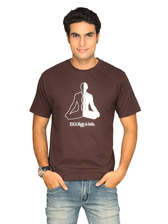clothoes: (36, 56, 144, 180)
watch: (33, 166, 57, 178)
